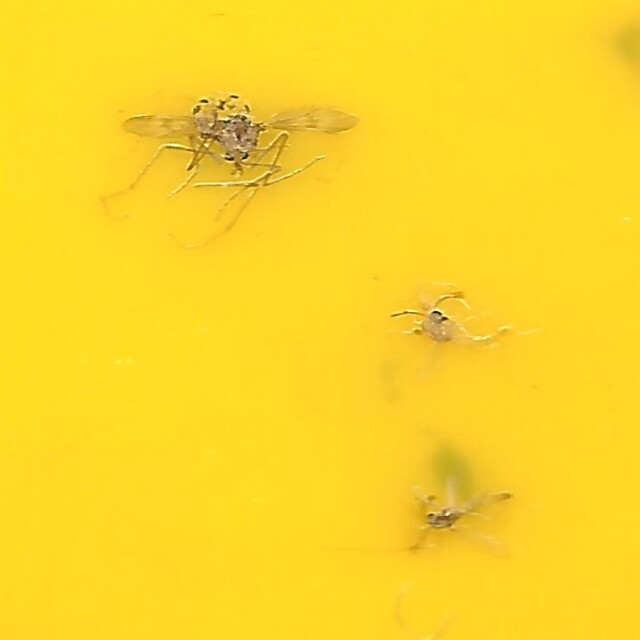Nematocera: (121, 93, 367, 210), (395, 290, 516, 355), (409, 486, 519, 547)
